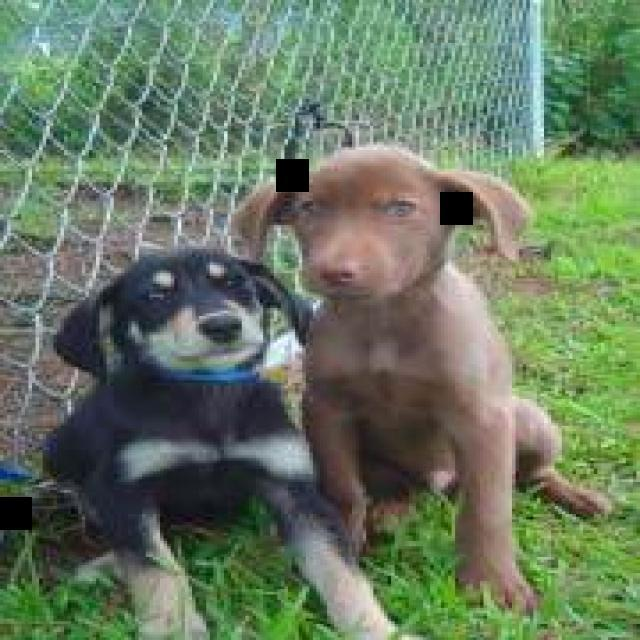puppy-dog: (232, 142, 607, 619), (43, 247, 397, 640)
